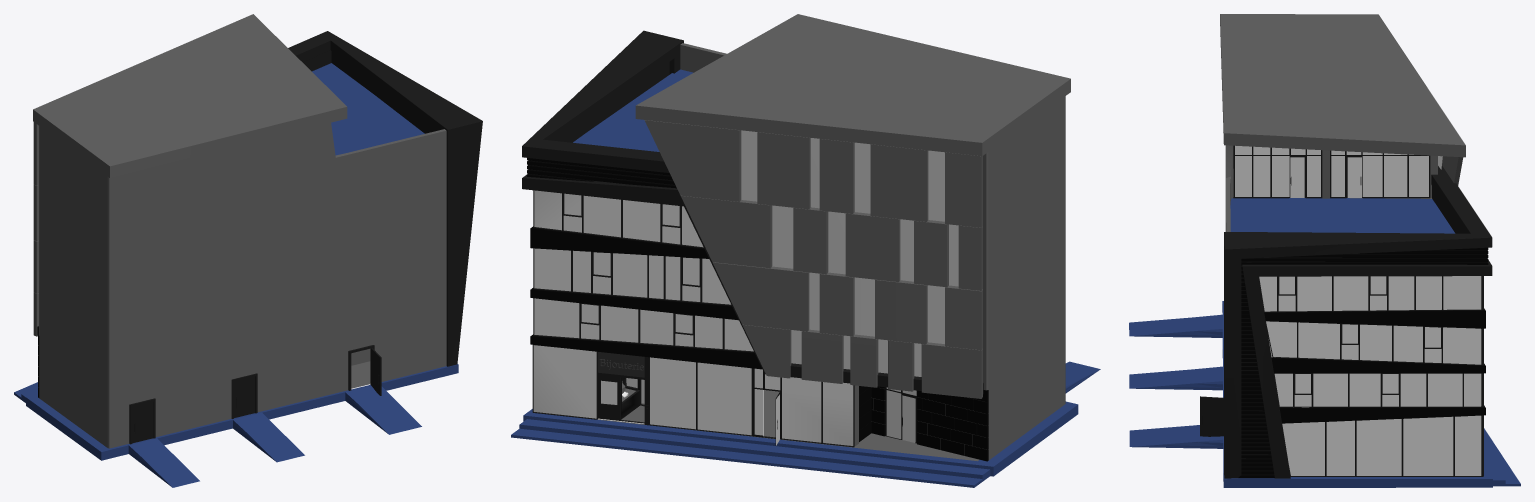
Rendered from Building.fbx.
The picture shows the model from 3 angles, left to right: view 1: azimuth 30°, elevation 25°; view 2: azimuth 150°, elevation 25°; view 3: azimuth 270°, elevation 25°; orthographic projection. The views are drawn at different scales.
Visible parts, largest first — view 1: base, Box031, Line016, floor, Line018, Box1578969097, Box1578969096; view 2: Box031, vitre, base, Line017, frame, Line016, Box1578969095, floor, Line015, Box104, Line018; view 3: vitre, Box031, Line016, base, Line017, floor, Box104, Line015, frame, Line018, Object008.
Boxes of the visible parts, x1,y1,x2,y2 form: base: (14,122,458,487); Box031: (33,14,347,336); Line016: (288,31,482,366); floor: (312,63,424,388); Line018: (303,50,435,133); Box1578969097: (129,398,155,444); Box1578969096: (231,373,257,418); Box031: (635,14,1070,398); vitre: (533,130,958,445); base: (511,43,1100,487); Line017: (530,226,762,369); frame: (532,190,916,447); Line016: (522,30,683,172); Box1578969095: (859,386,988,461); floor: (573,69,979,461); Line015: (522,174,983,394); Box104: (527,158,676,188); Line018: (531,62,675,185); vitre: (1235,145,1481,475); Box031: (1220,14,1465,185); Line016: (1224,166,1492,478); base: (1129,145,1520,487); Line017: (1241,308,1485,423); floor: (1230,198,1455,233); Box104: (1238,247,1488,478); Line015: (1242,260,1492,478); frame: (1233,145,1483,476); Line018: (1241,186,1463,474); Object008: (1200,396,1223,436).
Bounding box in the file's own units: 23.17 × 16.96 × 20.11.
